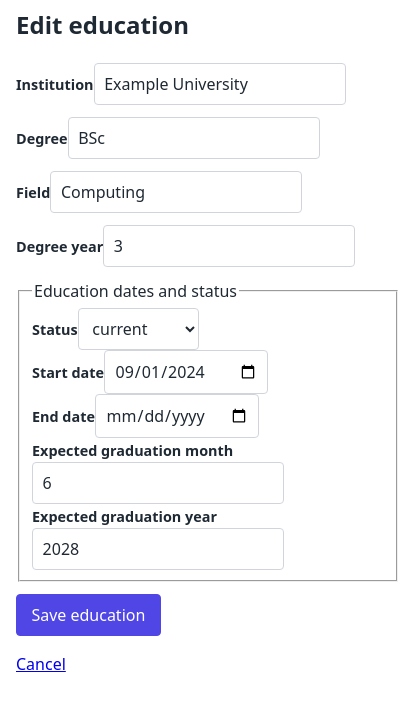
EducationEditorPage › keeps entered values after a recoverable save failure
The image size is (415, 725).
Replace the text in the field labelled "Institution" with "Changed University" at (220, 84), box [94, 63, 346, 105]
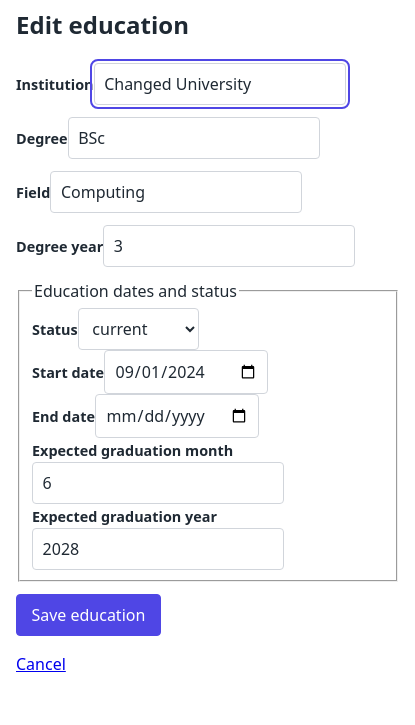
Click the button "Save education" at (88, 615), box [16, 594, 161, 636]
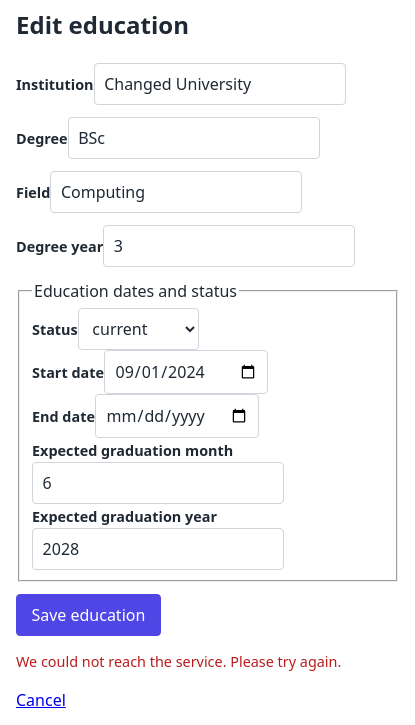
Result: the message shows "try again" at [16, 652, 341, 671]
